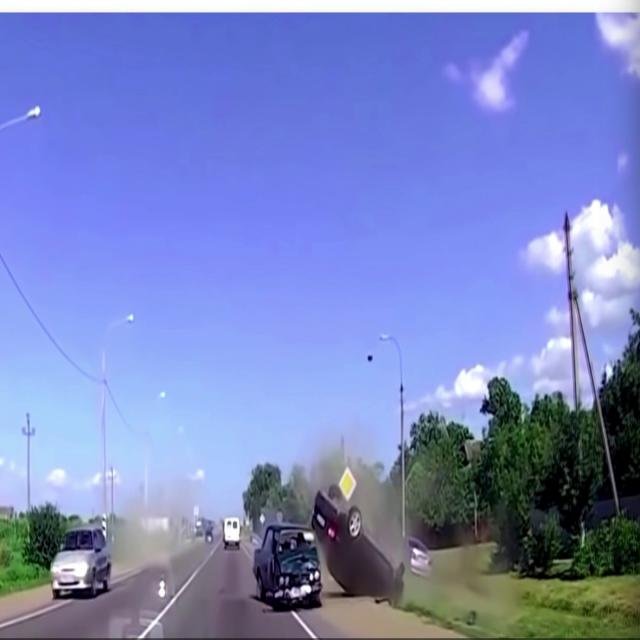accident: (253, 482, 405, 612)
